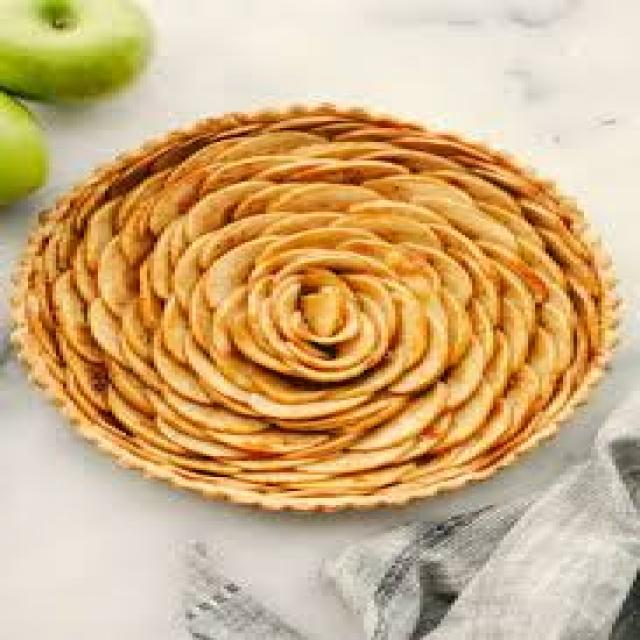Apple: (0, 0, 154, 104), (0, 93, 44, 211)
